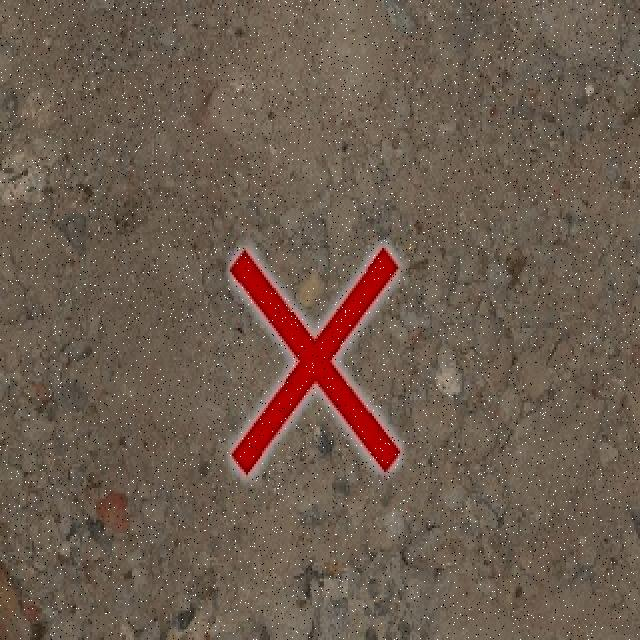x_marker: (231, 247, 399, 473)
